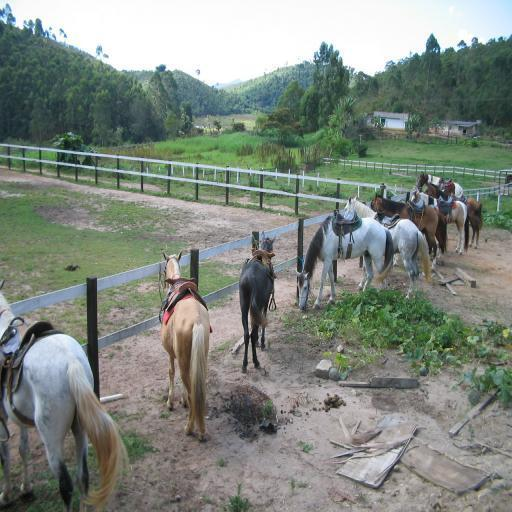horse: (0, 277, 135, 511), (296, 170, 484, 312), (159, 252, 211, 446), (238, 236, 274, 374)
